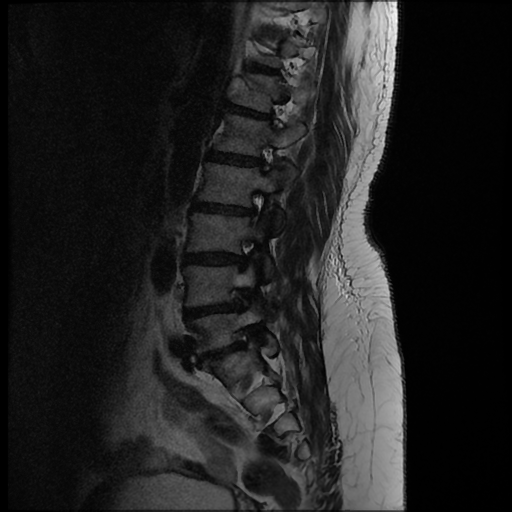LFS1: (232, 185, 276, 230)
